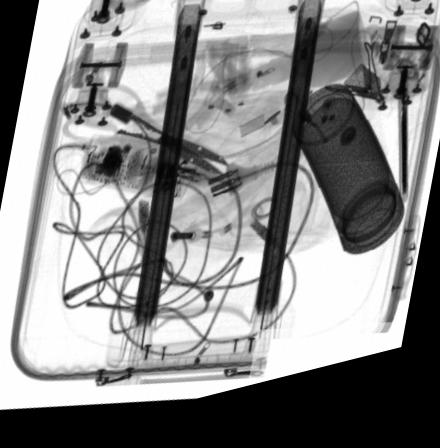Powerbank: (394, 109, 412, 228)
Scissors: (58, 86, 229, 184)
